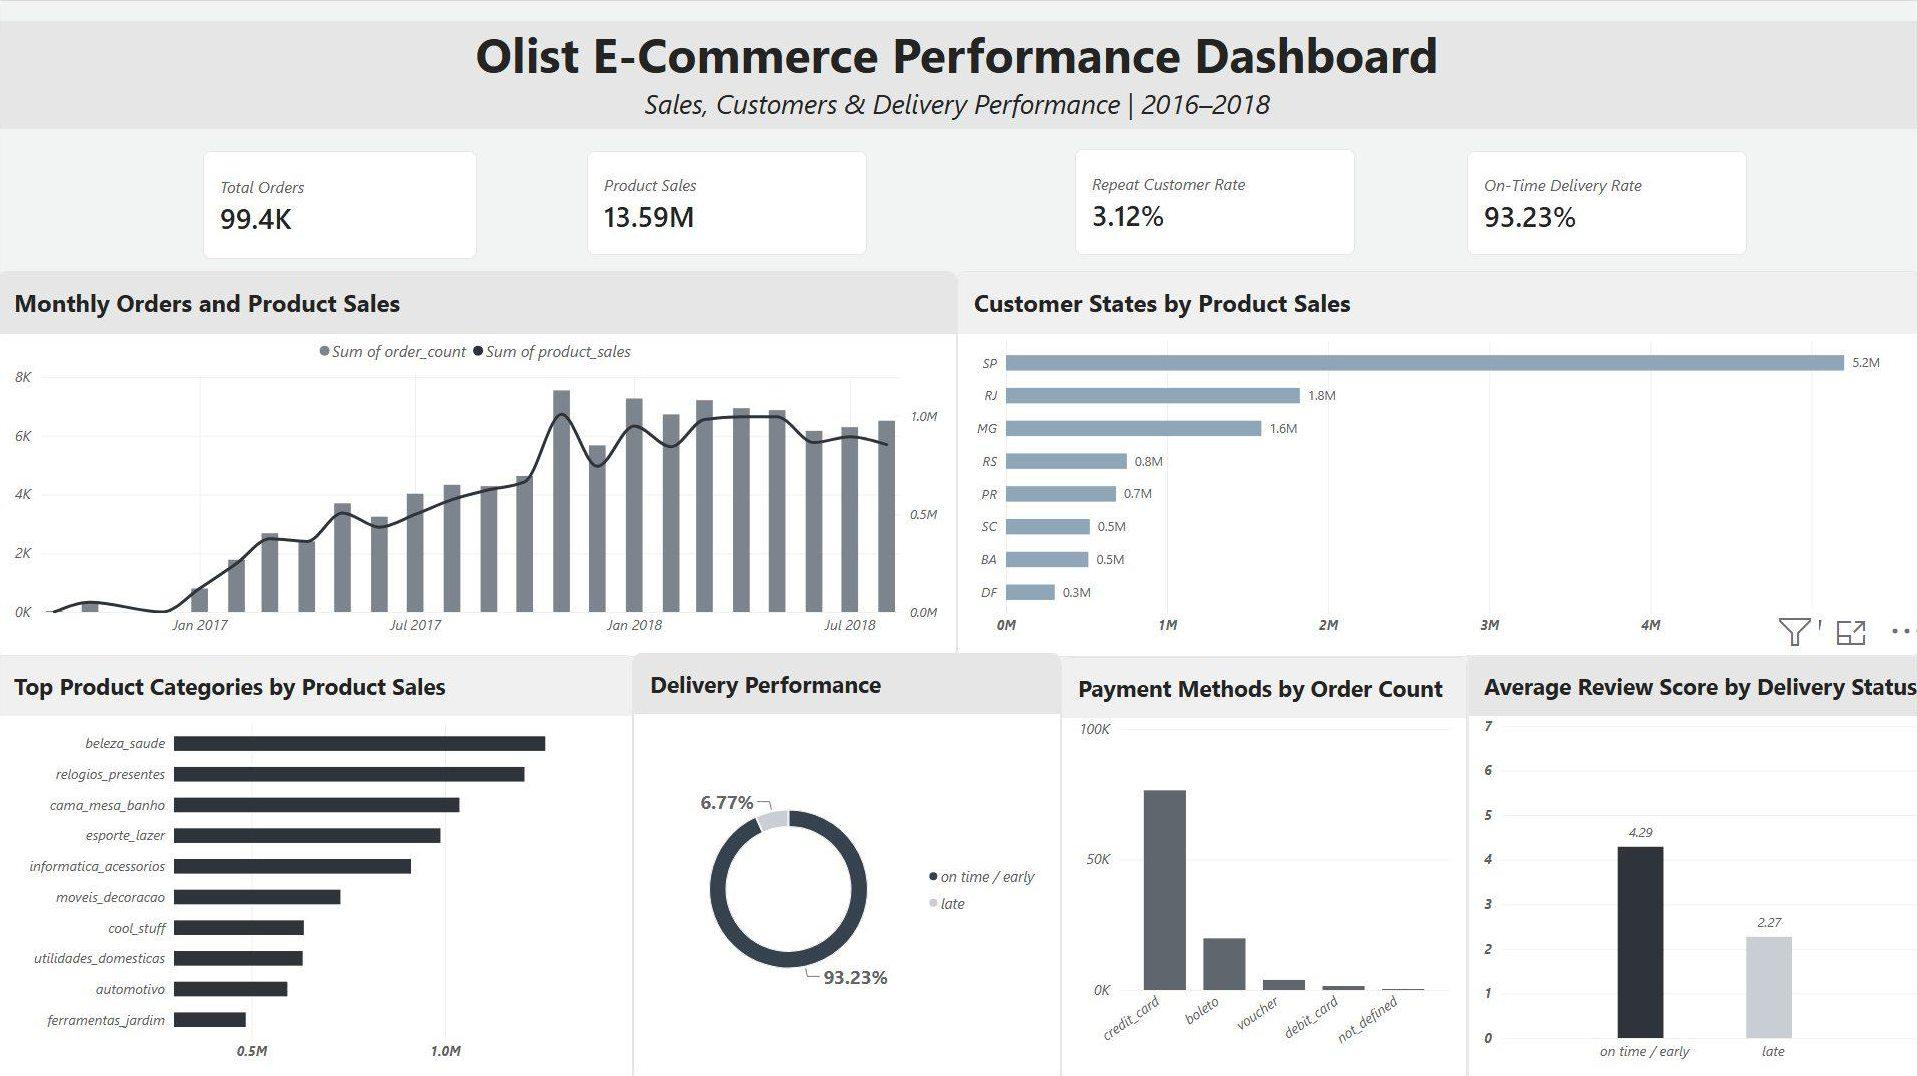

Layout of this report page (visuals, bound fields, positions):
{"tool":"powerbi","page":{"name":"Page 1","canvas":[1920,1080],"ordinal":0},"visuals":[{"type":"cardVisual","title":"Total Orders","fields":{"Data":["pbi_category_sales.Total Orders Display"]},"box":[206,150,274,108],"z":0},{"type":"cardVisual","fields":{"Data":["Sum(pbi_orders_monthly.product_sales)"]},"box":[590,150,280,104],"z":1000},{"type":"cardVisual","fields":{"Data":["pbi_category_sales.Repeat Customer Rate"]},"box":[1078,148,280,106],"z":2000},{"type":"cardVisual","fields":{"Data":["pbi_category_sales.On-Time Delivery Rate"]},"box":[1470,150,280,104],"z":3000},{"type":"lineClusteredColumnComboChart","title":"Monthly Orders and Product Sales","fields":{"Category":["pbi_orders_monthly.month_start"],"Y":["Sum(pbi_orders_monthly.order_count)"],"Y2":["Sum(pbi_orders_monthly.product_sales)"]},"box":[0,270,960,386],"z":4000},{"type":"clusteredBarChart","title":"Top Product Categories by Product Sales","fields":{"Category":["pbi_category_sales.product_category_name"],"Y":["Sum(pbi_category_sales.product_sales)"]},"box":[0,654,636,428],"z":5000},{"type":"clusteredBarChart","title":"Customer States by Product Sales","fields":{"Category":["pbi_state_performance.customer_state"],"Y":["Sum(pbi_state_performance.product_sales)"]},"box":[960,270,962,386],"z":6000},{"type":"clusteredColumnChart","title":"Payment Methods by Order Count","fields":{"Category":["pbi_payment_methods.payment_type"],"Y":["Avg(pbi_payment_methods.order_count)"]},"box":[1064,656,406,424],"z":7000},{"type":"donutChart","title":"Delivery Performance","fields":{"Category":["pbi_order_detail.delivery_status"],"Y":["CountNonNull(pbi_order_detail.order_id)"]},"box":[636,652,428,428],"z":8000},{"type":"clusteredColumnChart","title":"Average Review Score by Delivery Status","fields":{"Category":["pbi_order_detail.delivery_status"],"Y":["Avg(pbi_order_detail.review_score)"]},"box":[1470,654,466,428],"z":9000},{"type":"textbox","box":[0,20,1920,108],"z":9001}]}

Visuals, with their boxes in screenshot pixels (x1, y1, x2, y2), scaled from the page's 1920x1080 canvas onto the 1917x1076 screenshot:
"Total Orders" cardVisual: detection(206, 149, 479, 257)
cardVisual - Sum(pbi_orders_monthly.product_sales): detection(589, 149, 869, 253)
cardVisual - pbi_category_sales.Repeat Customer Rate: detection(1076, 147, 1356, 253)
cardVisual - pbi_category_sales.On-Time Delivery Rate: detection(1468, 149, 1747, 253)
"Monthly Orders and Product Sales" lineClusteredColumnComboChart: detection(0, 269, 958, 654)
"Top Product Categories by Product Sales" clusteredBarChart: detection(0, 652, 635, 1075)
"Customer States by Product Sales" clusteredBarChart: detection(958, 269, 1916, 654)
"Payment Methods by Order Count" clusteredColumnChart: detection(1062, 654, 1468, 1075)
"Delivery Performance" donutChart: detection(635, 650, 1062, 1075)
"Average Review Score by Delivery Status" clusteredColumnChart: detection(1468, 652, 1916, 1075)
textbox: detection(0, 20, 1916, 128)
